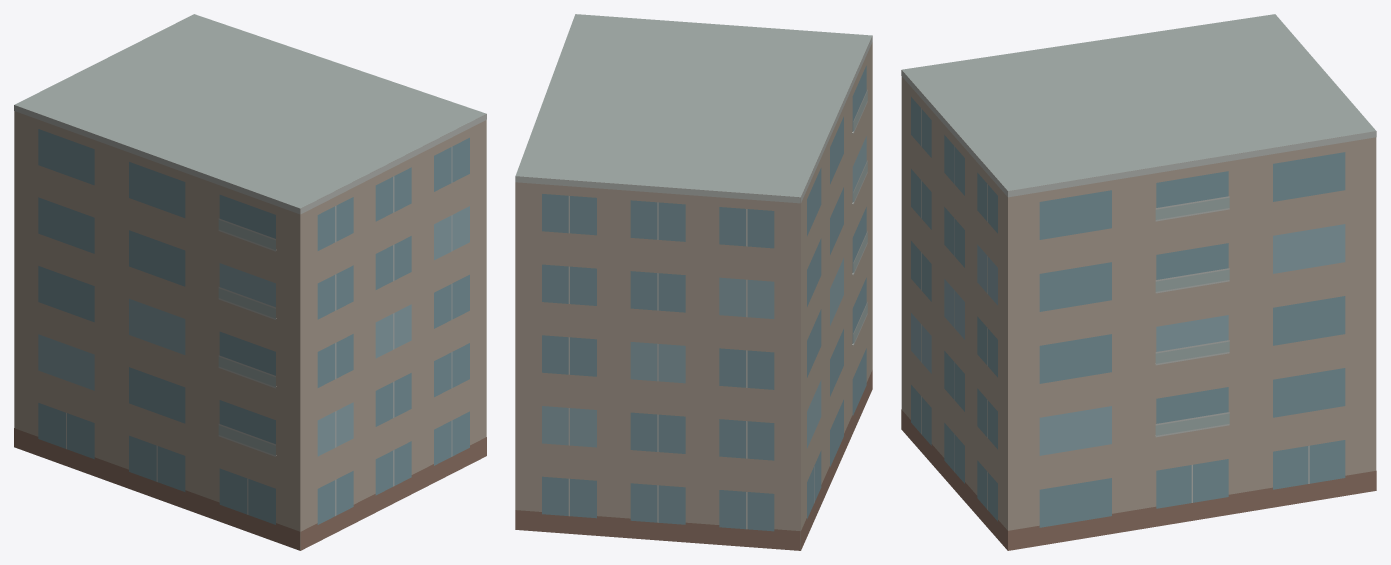
Rendered from survey-upis-32851355.glb.
3 views of the same model, side by side, from view 1: azimuth 30°, elevation 25°; view 2: azimuth 150°, elevation 25°; view 3: azimuth 270°, elevation 25° (orthographic). The views are drawn at different scales.
Parts seen in each view (by area): view 1: survey-upis-32851355.tmp; view 2: survey-upis-32851355.tmp; view 3: survey-upis-32851355.tmp.
Boxes of the visible parts, x1=… form: survey-upis-32851355.tmp: x1=14, y1=14, x2=486, y2=550; survey-upis-32851355.tmp: x1=515, y1=14, x2=872, y2=550; survey-upis-32851355.tmp: x1=901, y1=14, x2=1376, y2=550.
Bounding box in the file's own units: 14.85 × 14.05 × 16.82.
